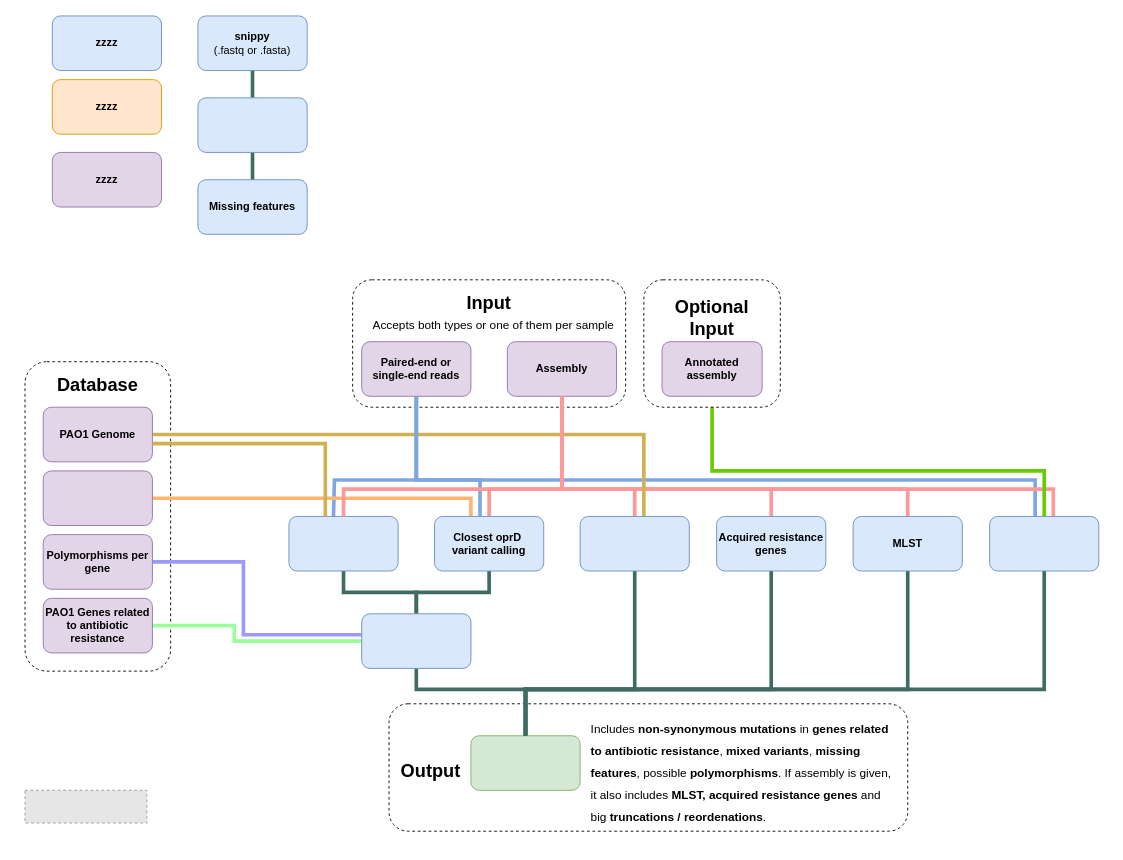
The diagram is 1123 pixels wide and 860 high, and some of its shapes have lost their labels. Grey dashed boxes stand in for pictures. The shapes that lost their labels are listed below. From the top down, each one's centre as x and y in pixels, then its label:
At point 252,124: "Mixed variants".
At point 97,498: "oprD distant variants".
At point 343,543: "PAO1 Variant calling".
At point 634,543: "Gene truncations and reordenations".
At point 1044,543: "One to One variant calling".
At point 416,640: "Filter variants".
At point 525,762: "Merged results".
